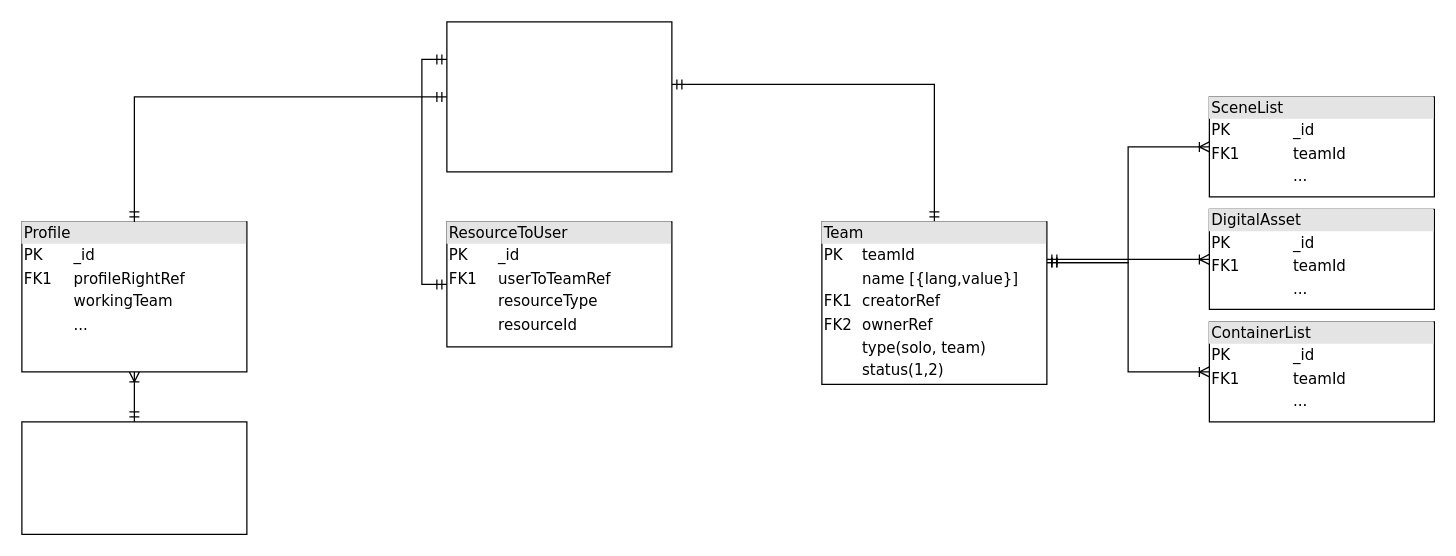
Some shapes in this 1456 by 556 pixel diagram are drawn without their labels. The shapes that lost their labels are listed below. From the top down, each one's centre as x and y in pixels, then its label:
the point at 559,96: UserToTeam PK _id FK1 teamId FK2 profileId accessList
the point at 134,477: ProfileRight PK _id fieldname01 ...
